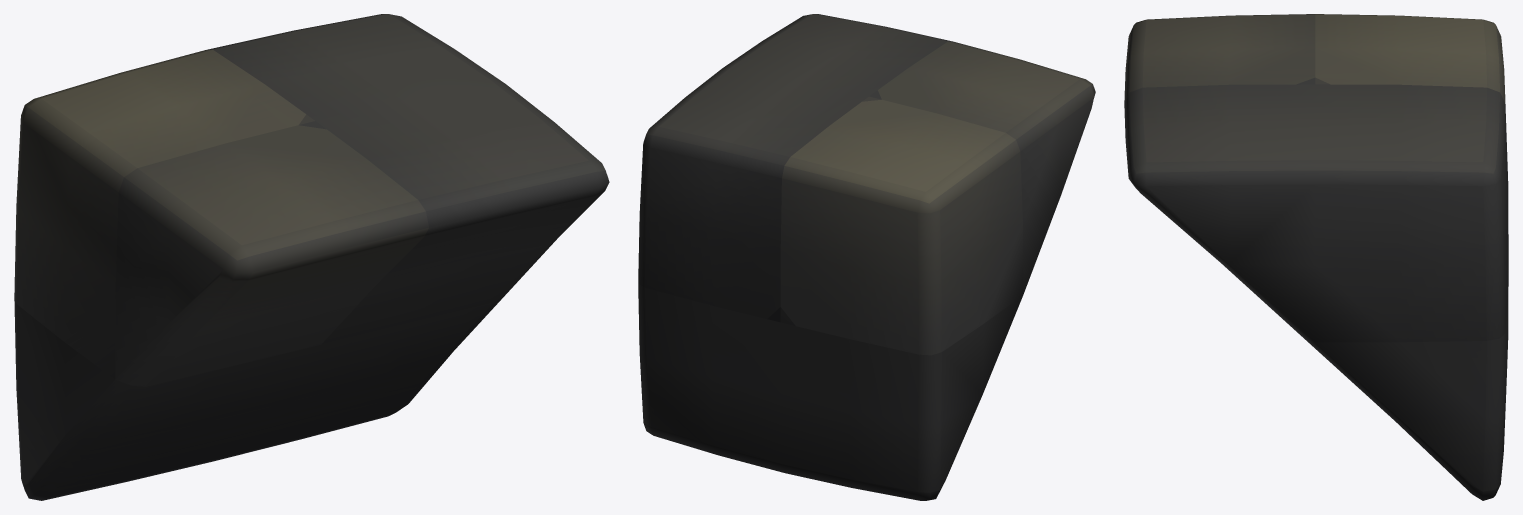
File: DarkStone_2x2_SlopeUnder.fbx
The picture shows the model from 3 angles, left to right: view 1: azimuth 30°, elevation 25°; view 2: azimuth 150°, elevation 25°; view 3: azimuth 270°, elevation 25°; orthographic projection. The views are drawn at different scales.
Visible parts, largest first — view 1: DarkStone_2x2_SlopeUnder_LOD0; view 2: DarkStone_2x2_SlopeUnder_LOD0; view 3: DarkStone_2x2_SlopeUnder_LOD0.
Boxes of the visible parts, bbox=[...] form: DarkStone_2x2_SlopeUnder_LOD0: bbox=[14, 14, 609, 500]; DarkStone_2x2_SlopeUnder_LOD0: bbox=[638, 14, 1095, 500]; DarkStone_2x2_SlopeUnder_LOD0: bbox=[1124, 14, 1508, 500].
Size of what is drawn, in the model's own units: 1.09 by 1.08 by 1.08.
